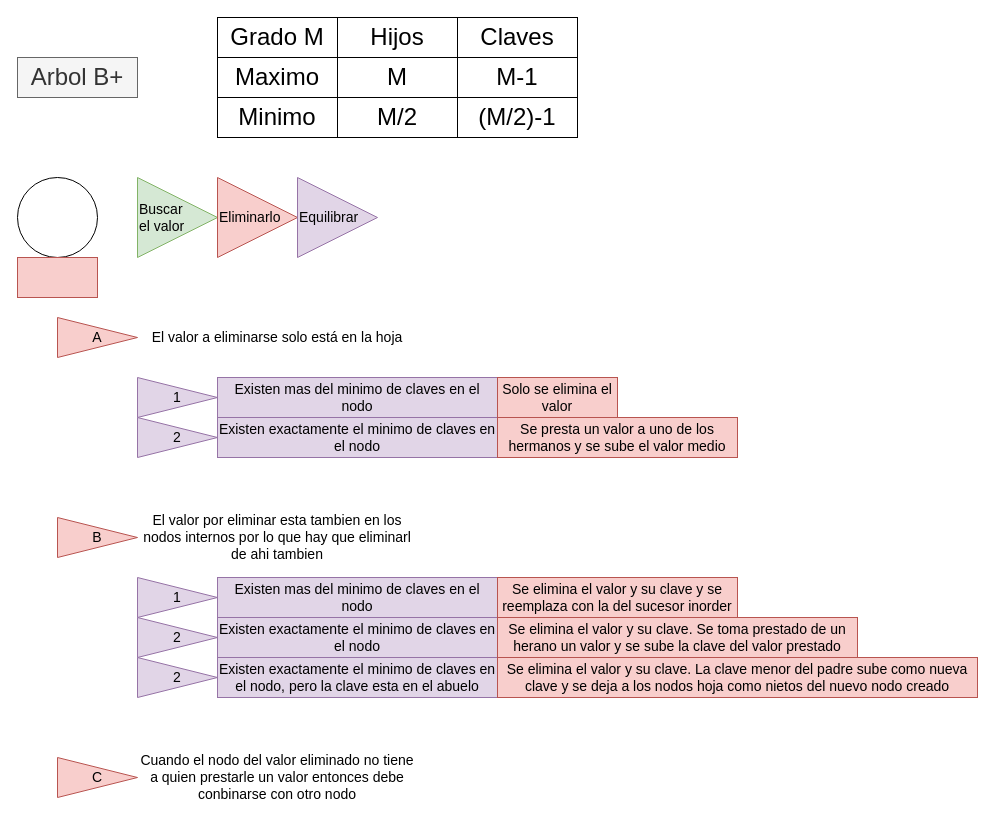
This 995x835 diagram has some shape labels left out. Here are the shapes that lost their labels. From the top down, the centre of each, then its label:
At point (57, 217): "Eliminacion".
At point (57, 277): "Casos".
